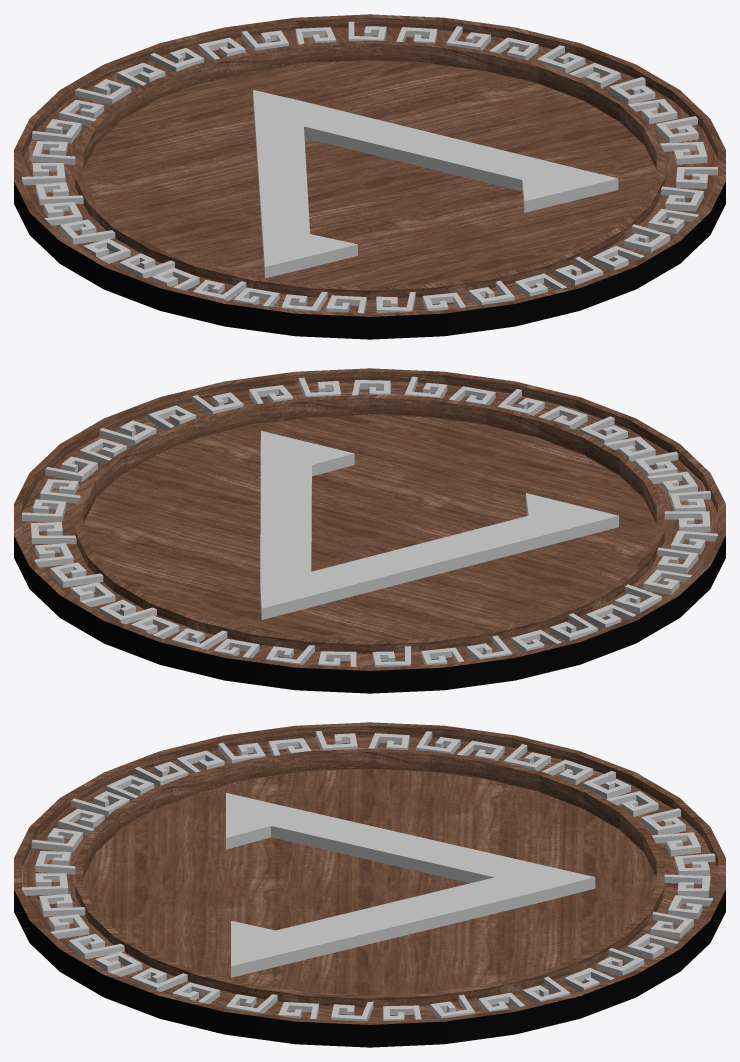
The model's file is Shield.fbx.
3 renders of one model, top to bottom at view 1: azimuth 30°, elevation 25°; view 2: azimuth 150°, elevation 25°; view 3: azimuth 270°, elevation 25°, orthographic.
Visible parts, largest first — view 1: Cylinder001; view 2: Cylinder001; view 3: Cylinder001.
Boxes of the visible parts, <box> form: Cylinder001: <box>14,14,725,339</box>; Cylinder001: <box>14,368,725,693</box>; Cylinder001: <box>14,722,725,1047</box>.
Bounding box in the file's own units: 43.37 × 1.51 × 43.13.
